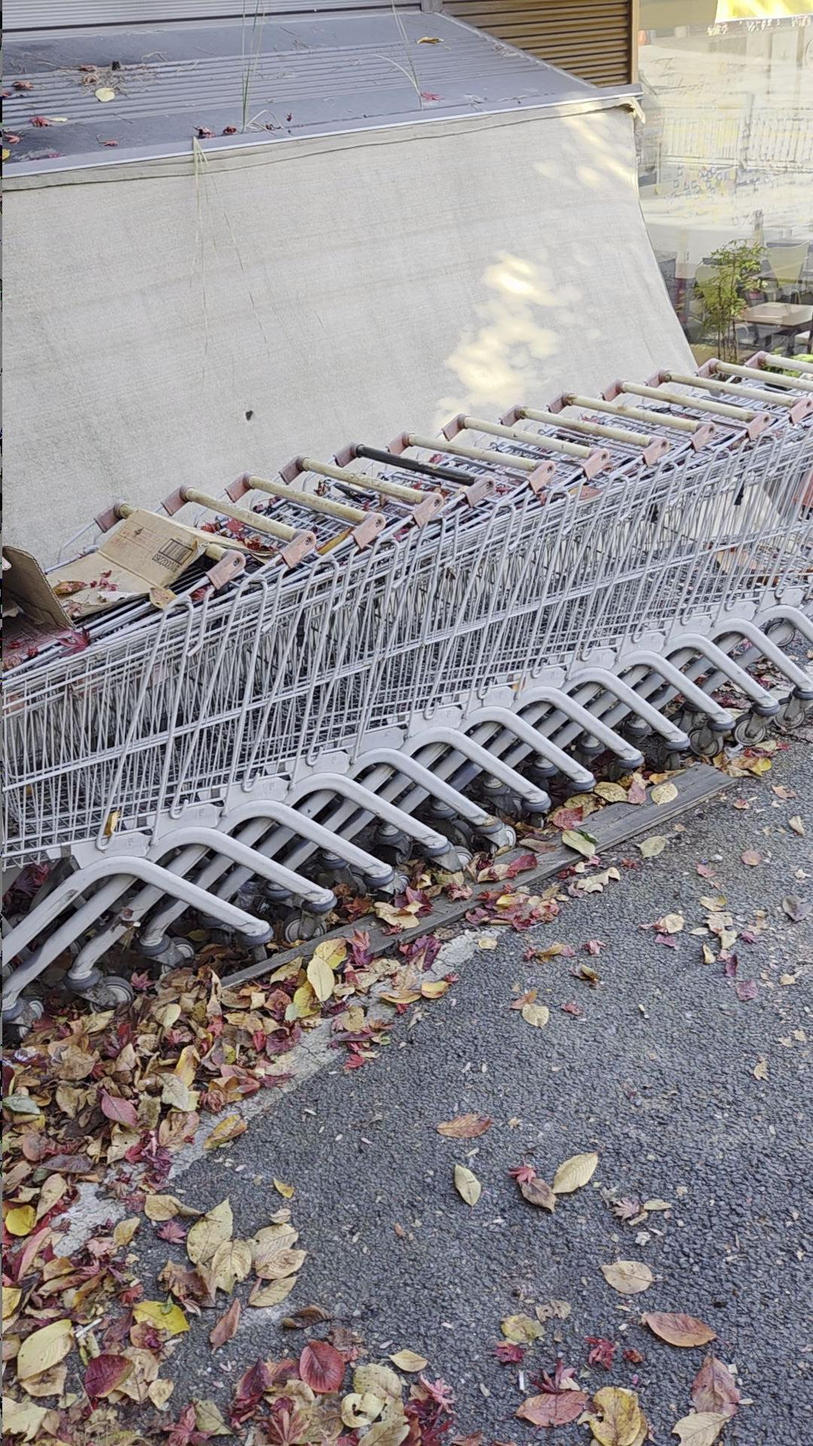combined_cart: (7, 333, 812, 1040)
